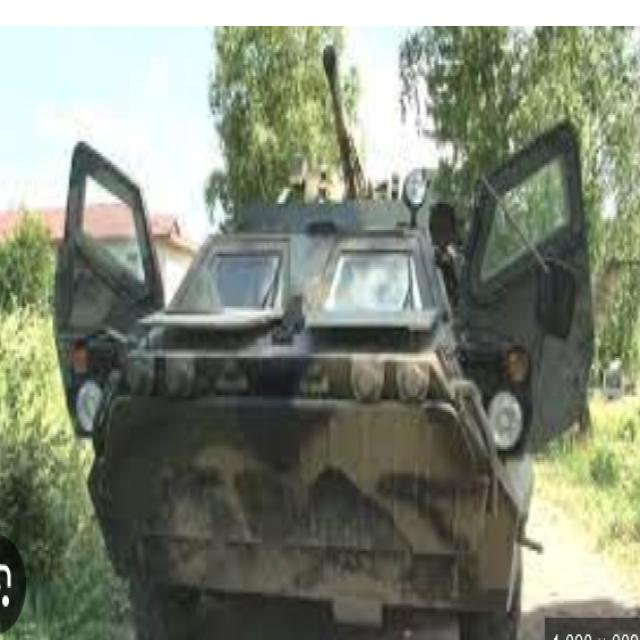MIL_APC: (53, 163, 577, 640)
